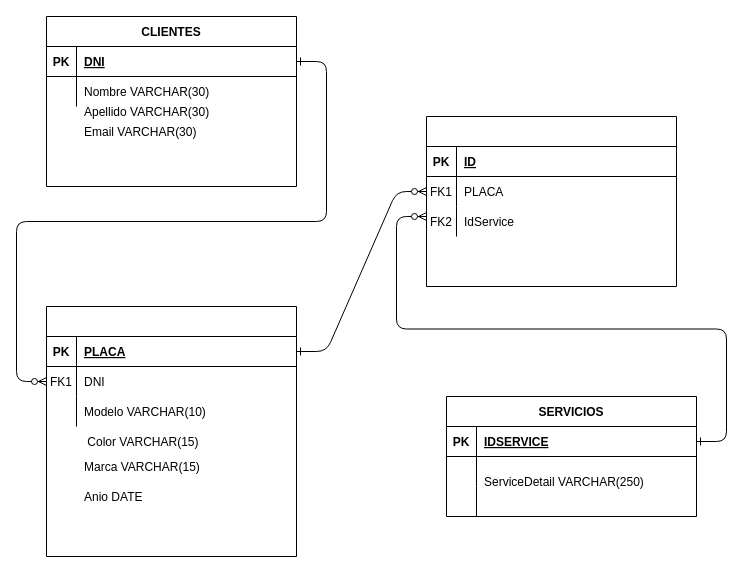
Image size: 743x573. Some labels were removed from this diagram. The shapes that lost their labels are listed below. From the top down, each one's box as (x1, y1, x2, y2) in pixels, then its label:
(426, 116, 676, 286): SERVICIOSAUTOS
(46, 306, 296, 556): AUTOS
